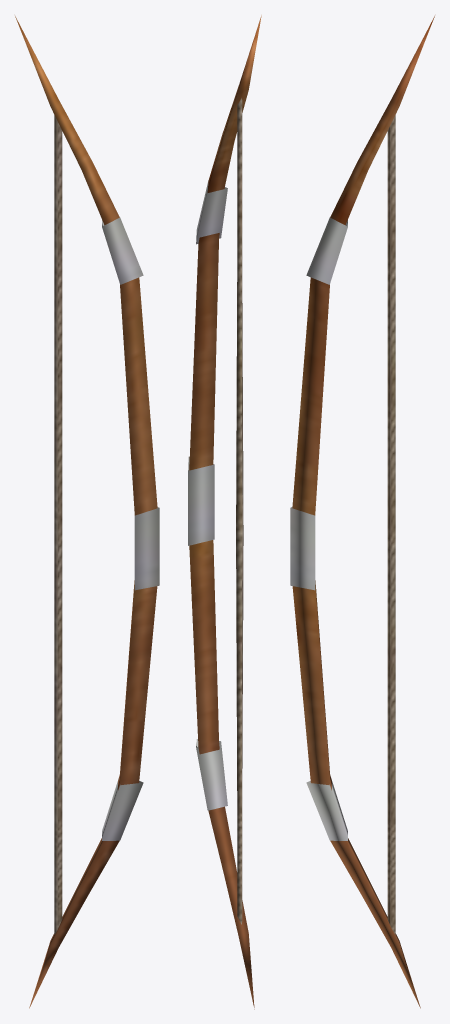
Rendered from bow-long.glb.
The picture shows the model from 3 angles, left to right: view 1: azimuth 90°, elevation 25°; view 2: azimuth 210°, elevation 25°; view 3: azimuth 270°, elevation 25°; orthographic projection.
Visible parts, largest first — view 1: Bow - Long_Indian_static; view 2: Bow - Long_Indian_static; view 3: Bow - Long_Indian_static.
Part boxes in pixels (<box>): Bow - Long_Indian_static: <box>15,16,159,1008</box>; Bow - Long_Indian_static: <box>188,15,261,1009</box>; Bow - Long_Indian_static: <box>290,16,434,1008</box>.
Size of the model in its own units: 0.1085 by 3.9 by 0.5169.
1 material, 1 textured.
